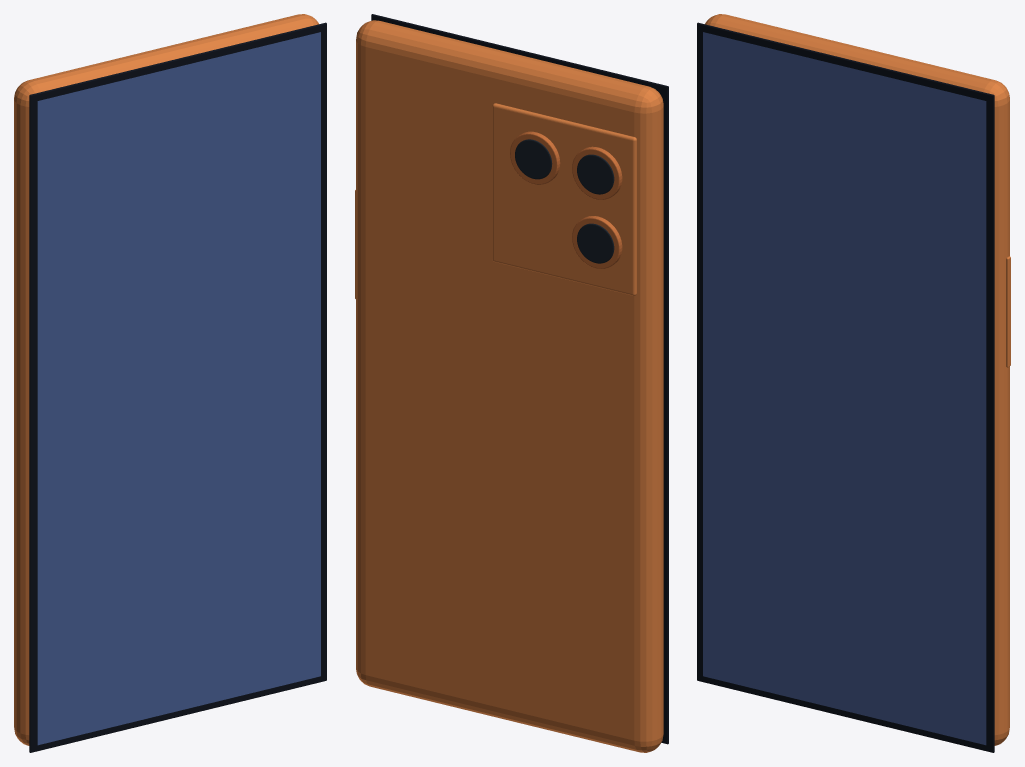
The model's file is iphone-17-pro-max-dev.glb.
3 views of the same model, side by side, from view 1: azimuth 30°, elevation 25°; view 2: azimuth 150°, elevation 25°; view 3: azimuth 330°, elevation 25° (orthographic).
Visible parts, largest first — view 1: Screen, DeviceBody, FrontGlass; view 2: DeviceBody, CameraPlateau, FrontGlass, CameraLens1, CameraLens2, CameraLens3, CameraRing1, CameraRing2, CameraRing3; view 3: Screen, DeviceBody, FrontGlass, SideButton.
Boxes of the visible parts, box(x1,y1,x2,y2) form: Screen: box(37, 32, 320, 745); DeviceBody: box(14, 14, 318, 745); FrontGlass: box(29, 22, 326, 752); DeviceBody: box(356, 20, 663, 752); CameraPlateau: box(492, 103, 636, 295); FrontGlass: box(371, 14, 668, 744); CameraLens1: box(577, 154, 614, 194); CameraLens2: box(515, 139, 552, 179); CameraLens3: box(577, 223, 614, 263); CameraRing1: box(572, 146, 622, 199); CameraRing2: box(510, 131, 560, 184); CameraRing3: box(572, 216, 622, 268); Screen: box(703, 32, 986, 745); DeviceBody: box(705, 14, 1009, 745); FrontGlass: box(697, 22, 994, 752); SideButton: box(1006, 256, 1010, 367).
Size of the model in its own units: 0.0786 by 0.1634 by 0.012.
